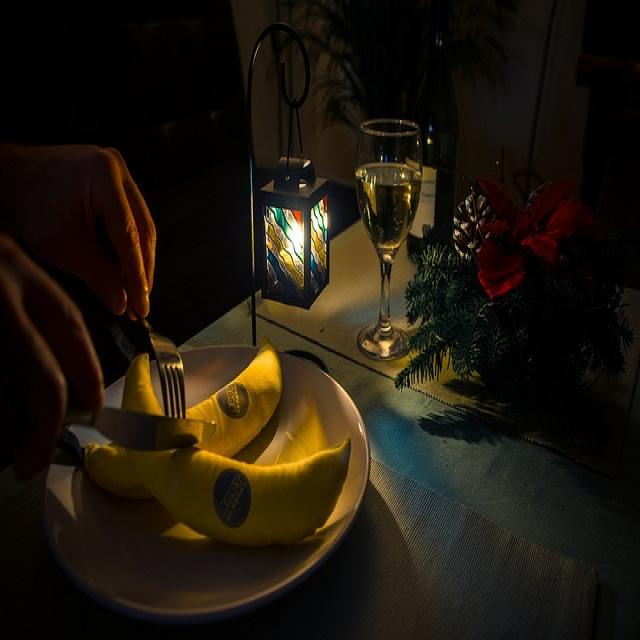Cup: (353, 117, 422, 341)
